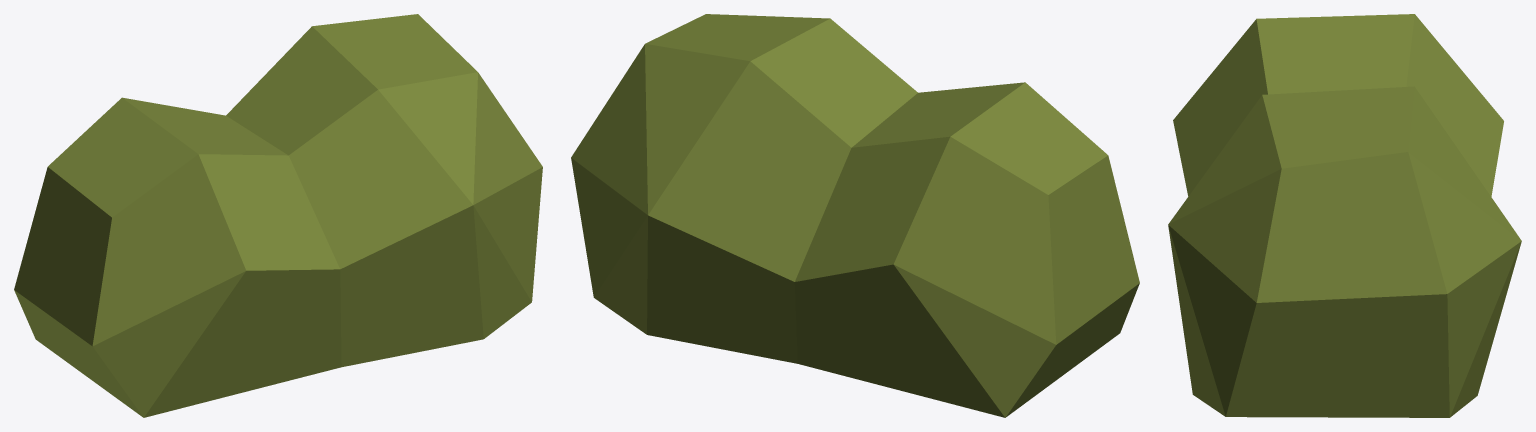
The model's file is TB_Env_Bush_Med_C.FBX.
The picture shows the model from 3 angles, left to right: view 1: azimuth 30°, elevation 25°; view 2: azimuth 150°, elevation 25°; view 3: azimuth 270°, elevation 25°; orthographic projection. The views are drawn at different scales.
Parts seen in each view (by area): view 1: TB_Env_Bush_Med_C; view 2: TB_Env_Bush_Med_C; view 3: TB_Env_Bush_Med_C.
Boxes of the visible parts, left/top/right/bottom form: TB_Env_Bush_Med_C: left=14, top=14, right=542, bottom=417; TB_Env_Bush_Med_C: left=571, top=14, right=1139, bottom=417; TB_Env_Bush_Med_C: left=1168, top=14, right=1521, bottom=417.
Size of the model in its own units: 1.07 by 0.5936 by 0.6757.
